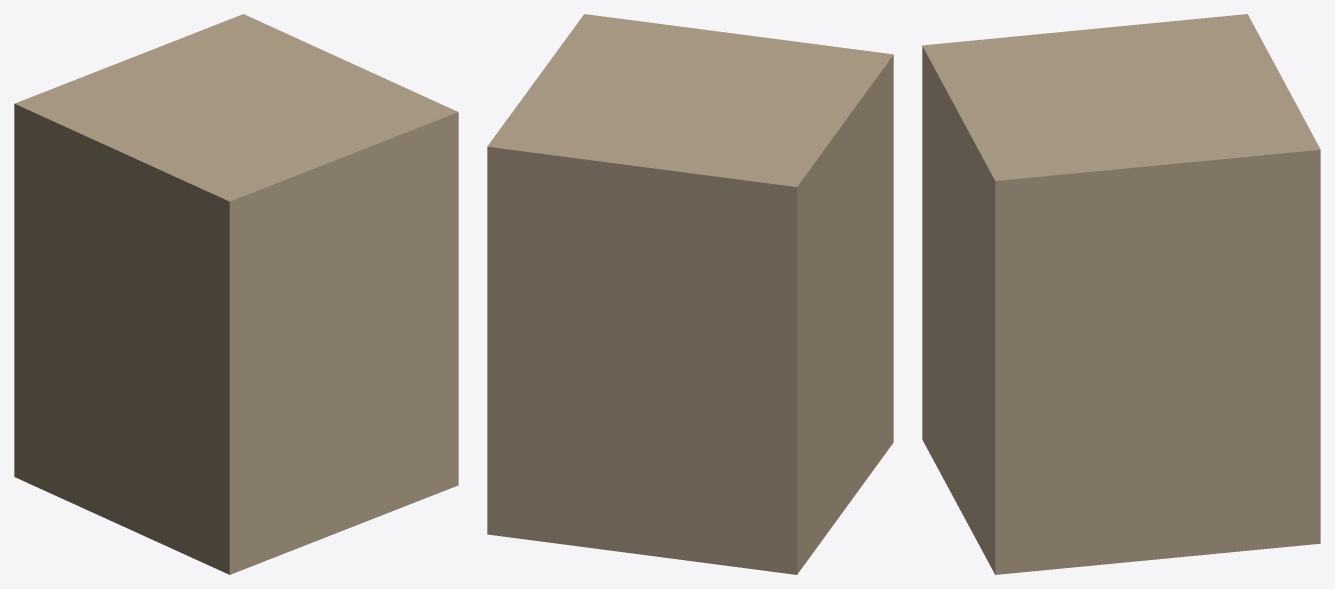
Rendered from bld_101245995.dae.
3 views of the same model, side by side, from view 1: azimuth 30°, elevation 25°; view 2: azimuth 150°, elevation 25°; view 3: azimuth 270°, elevation 25° (orthographic). The views are drawn at different scales.
Parts seen in each view (by area): view 1: bld_101245995; view 2: bld_101245995; view 3: bld_101245995.
Part boxes in pixels (box(x1,y1,x2,y2)): bld_101245995: box(14, 14, 458, 574); bld_101245995: box(487, 14, 893, 574); bld_101245995: box(922, 14, 1320, 574).
Bounding box in the file's own units: 7.28 × 7.34 × 8.
